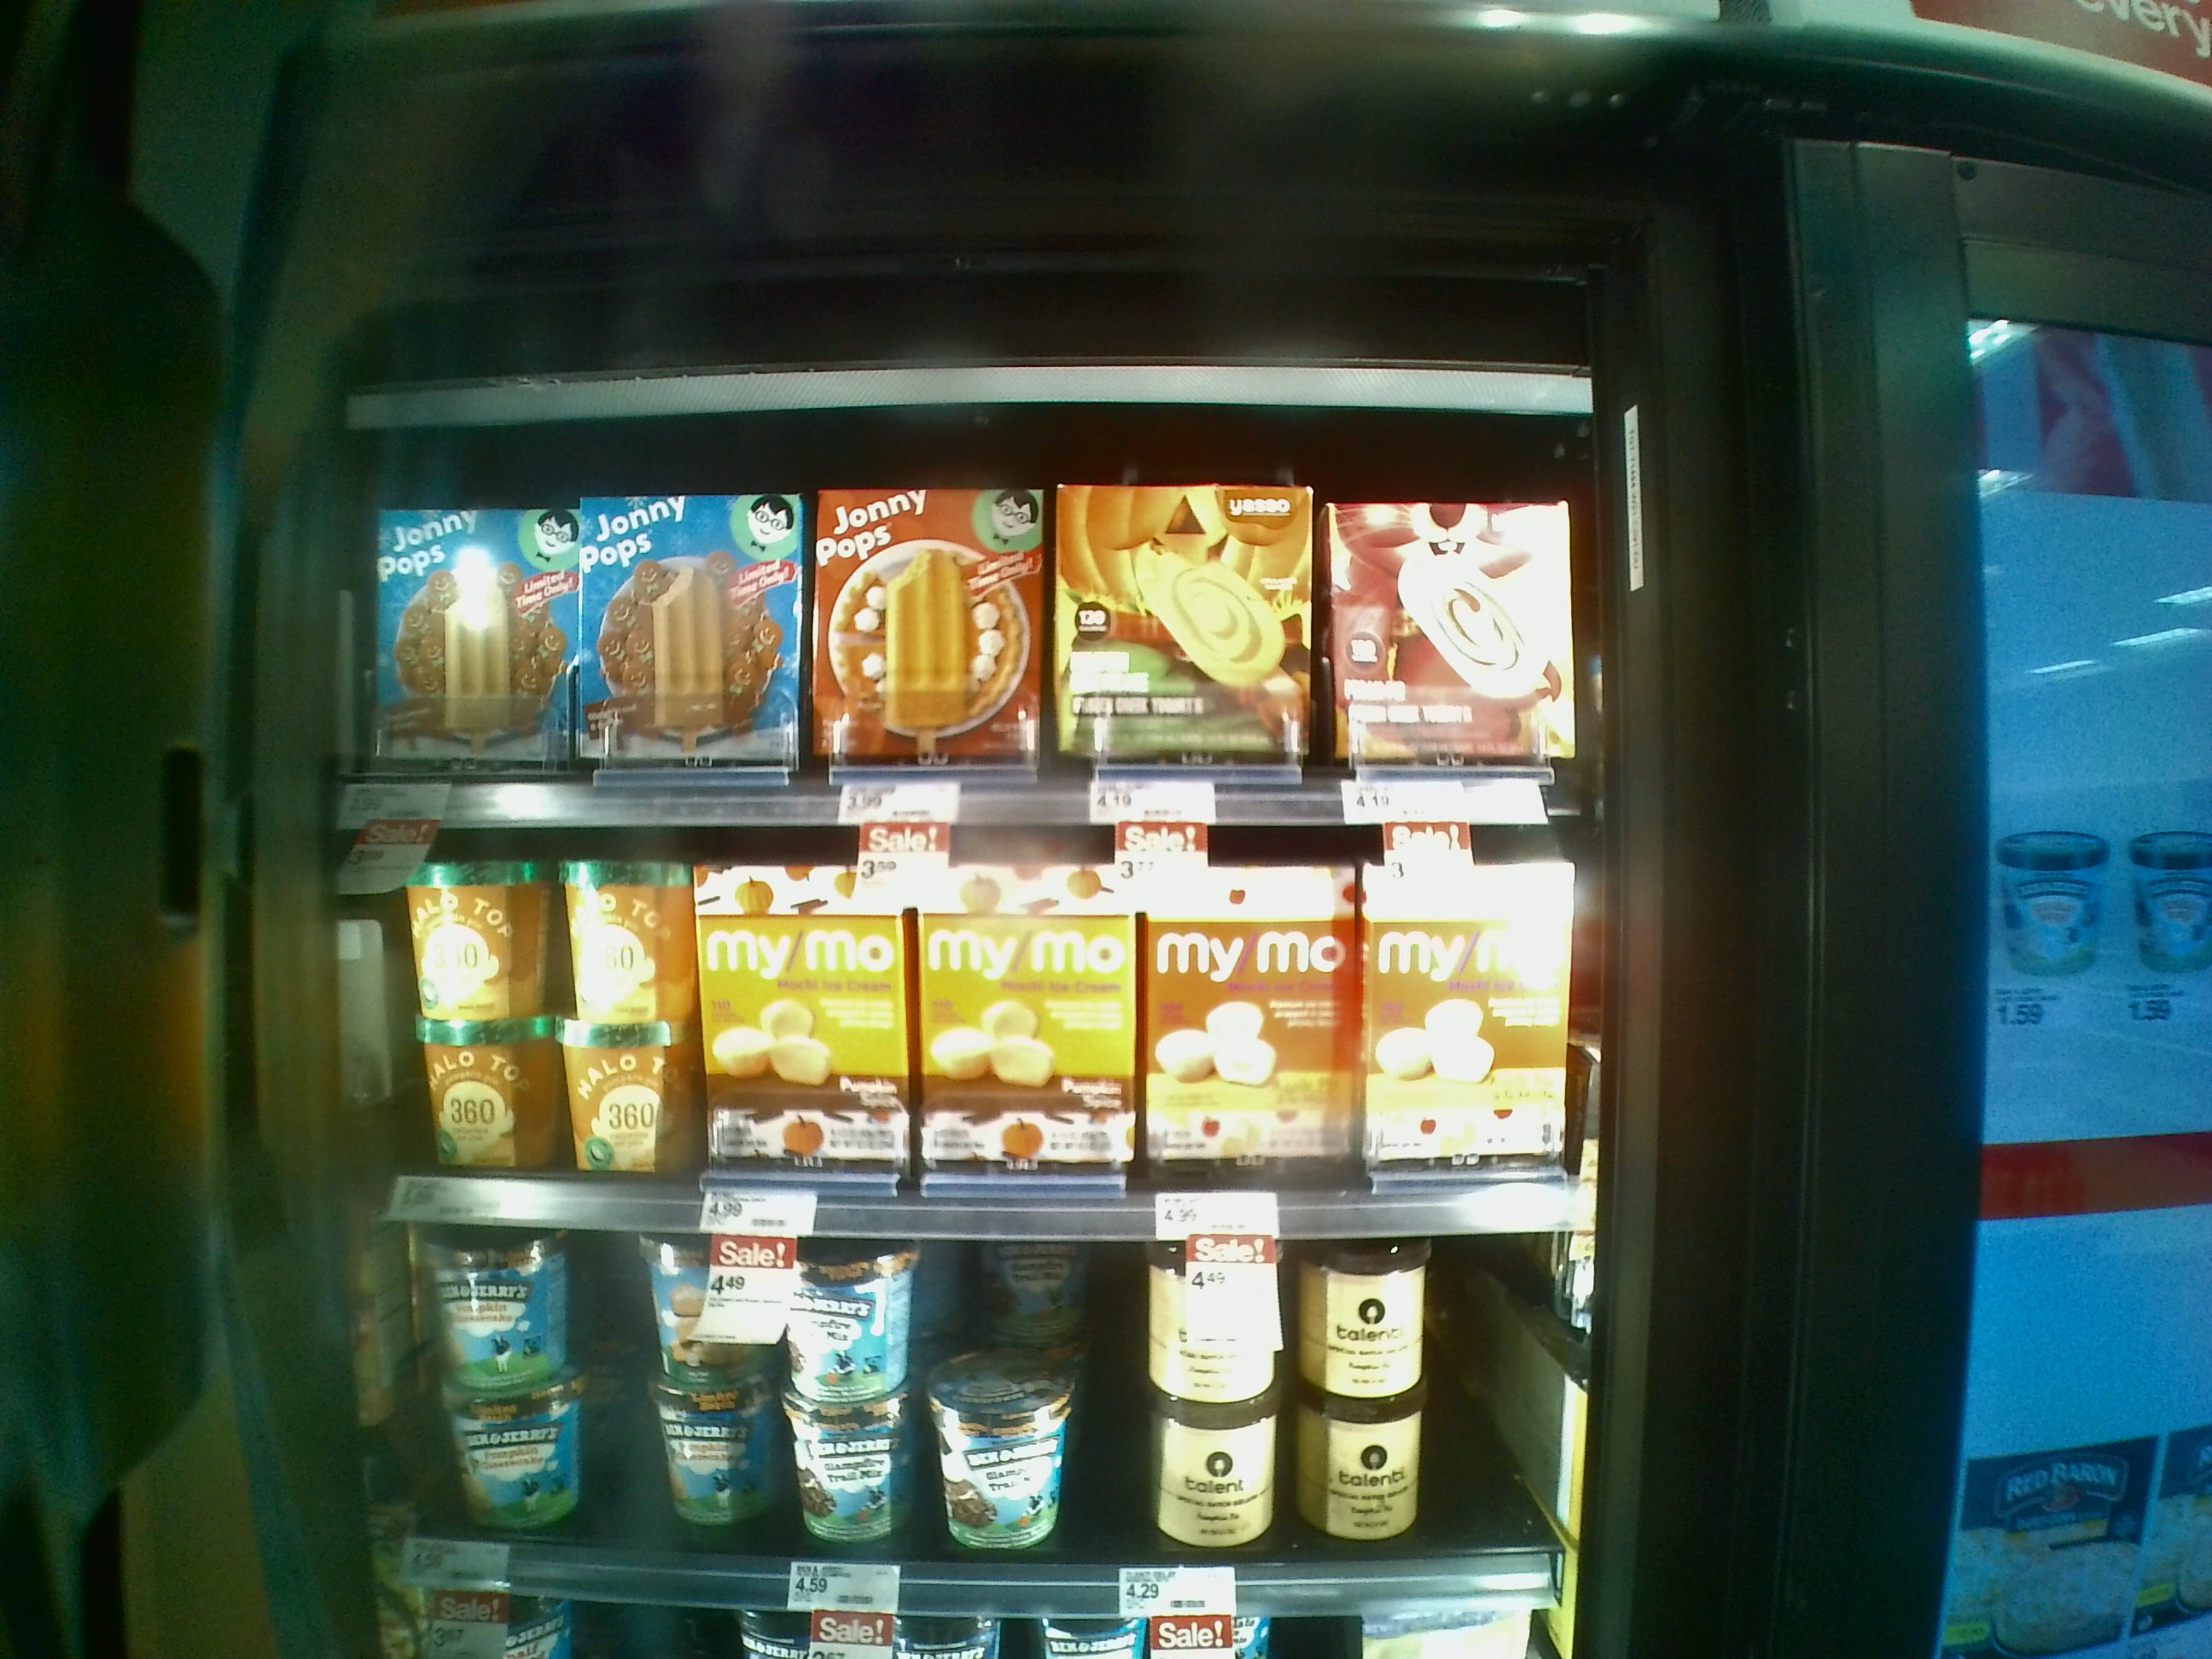shelf: (341, 796, 1576, 1225), (341, 1176, 1559, 1603), (355, 415, 1578, 821)
